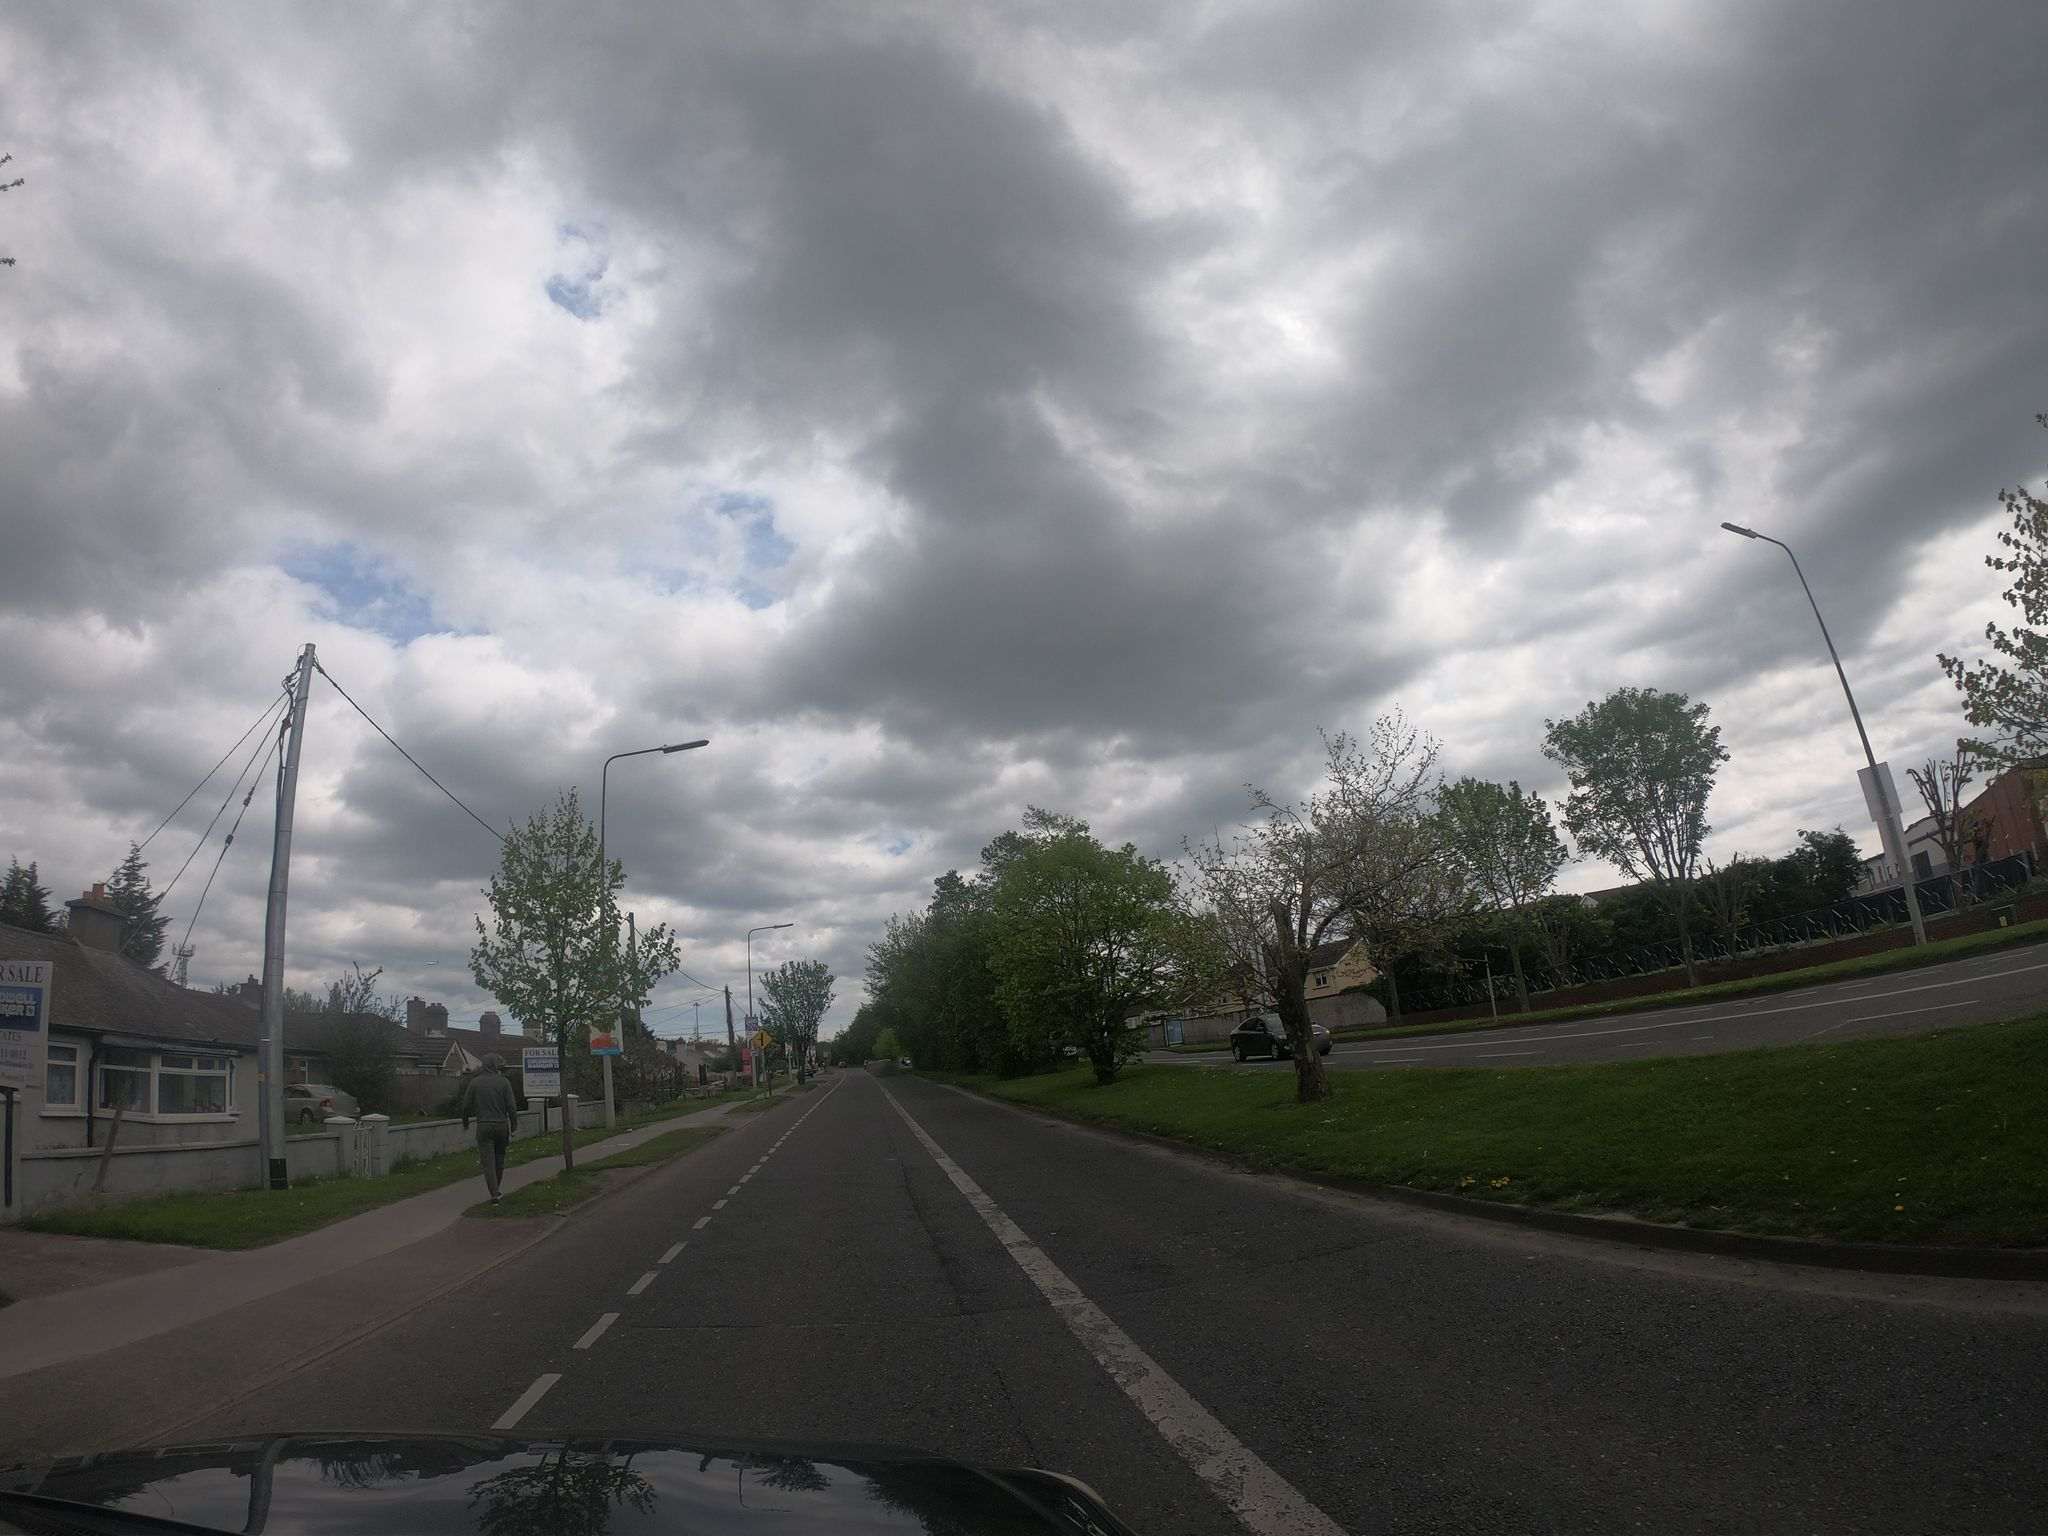property sign: (2, 947, 52, 1092), (510, 1031, 572, 1113)
